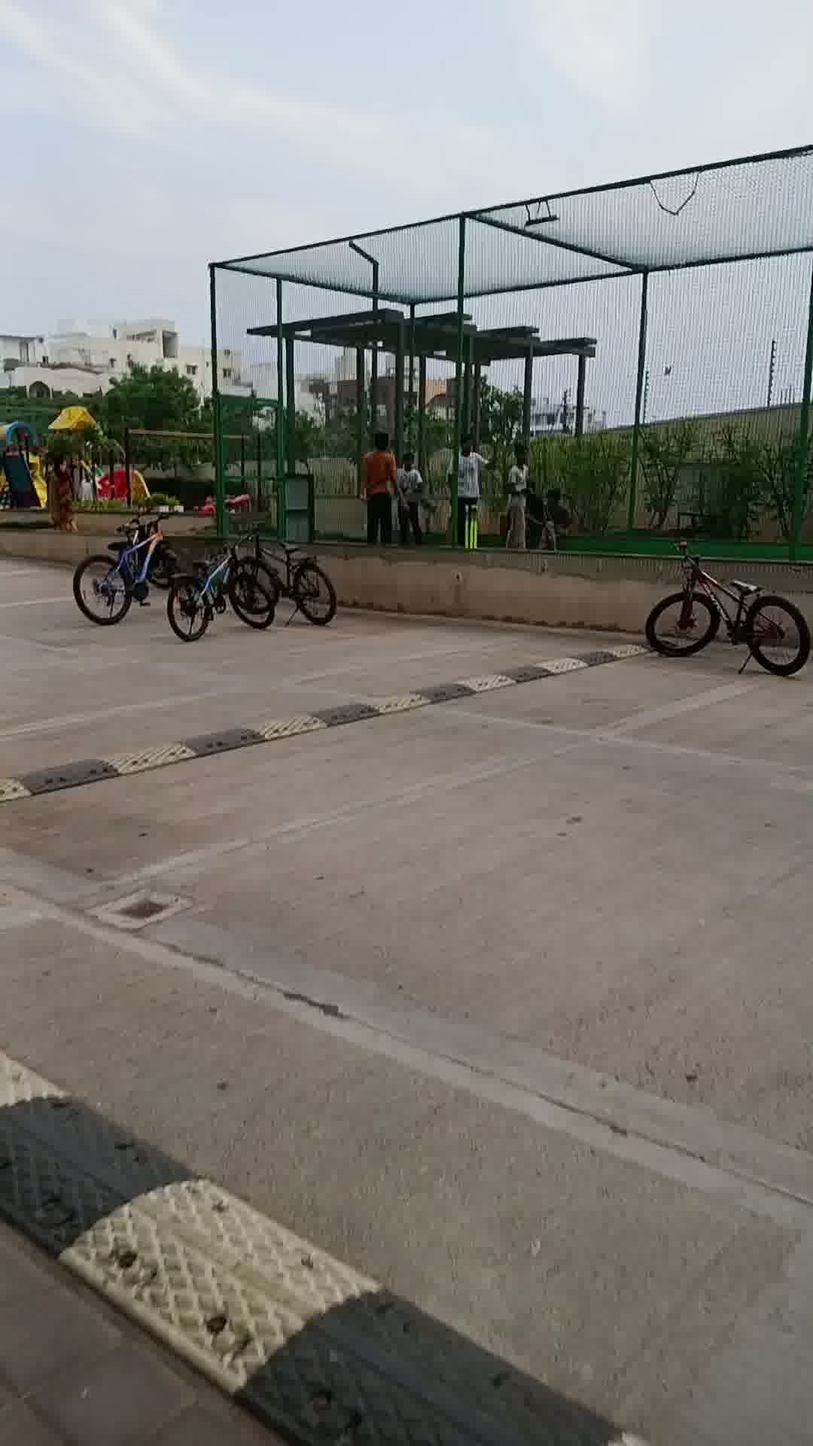bicycle: (633, 509, 813, 717), (74, 489, 178, 640), (228, 511, 347, 639), (147, 554, 280, 643)
person: (356, 401, 398, 549), (450, 424, 490, 560), (39, 444, 86, 543), (395, 441, 431, 550), (509, 425, 533, 566), (541, 477, 579, 557)
